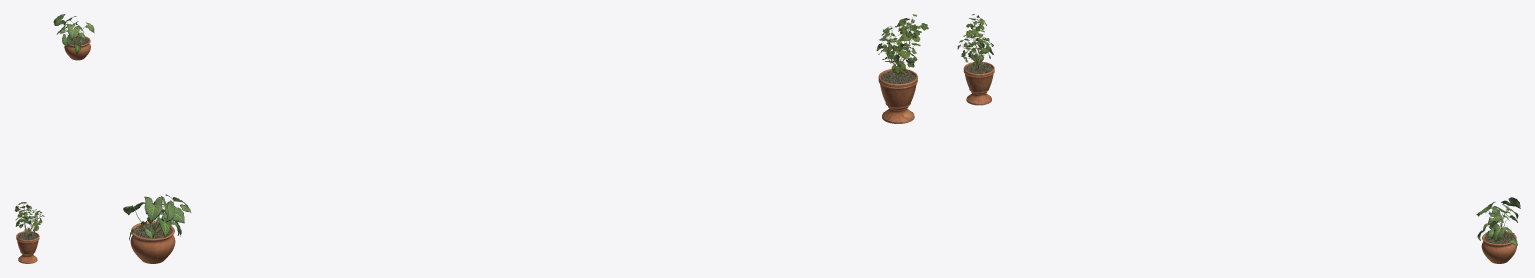
The model's file is room_ocean_props_m.glb.
3 views of the same model, side by side, from view 1: azimuth 30°, elevation 25°; view 2: azimuth 150°, elevation 25°; view 3: azimuth 270°, elevation 25° (orthographic). The views are drawn at different scales.
Parts seen in each view (by area): view 1: prop_potted_plant_02_2_potted_plant_02_leaves, prop_potted_plant_01_1_potted_plant_01_pot, prop_potted_plant_01_1_potted_plant_01_leaves, prop_potted_plant_02_2_potted_plant_02_pot, prop_potted_plant_01_1_potted_plant_01_pebbles, prop_potted_plant_02_2_potted_plant_02_dirt, prop_potted_plant_01_1_potted_plant_01_stem; view 2: prop_potted_plant_02_2_potted_plant_02_leaves, prop_potted_plant_01_1_potted_plant_01_leaves, prop_potted_plant_01_1_potted_plant_01_pot, prop_potted_plant_02_2_potted_plant_02_pot; view 3: prop_potted_plant_02_2_potted_plant_02_leaves, prop_potted_plant_01_1_potted_plant_01_leaves, prop_potted_plant_01_1_potted_plant_01_pot, prop_potted_plant_02_2_potted_plant_02_pot.
Part boxes in pixels (<box>): prop_potted_plant_02_2_potted_plant_02_leaves: <box>53,14,94,53</box>; prop_potted_plant_01_1_potted_plant_01_pot: <box>16,231,39,263</box>; prop_potted_plant_01_1_potted_plant_01_leaves: <box>14,202,44,236</box>; prop_potted_plant_02_2_potted_plant_02_pot: <box>64,35,90,60</box>; prop_potted_plant_01_1_potted_plant_01_pebbles: <box>17,232,38,240</box>; prop_potted_plant_02_2_potted_plant_02_dirt: <box>70,36,88,45</box>; prop_potted_plant_01_1_potted_plant_01_stem: <box>20,205,39,236</box>; prop_potted_plant_02_2_potted_plant_02_leaves: <box>123,194,191,240</box>; prop_potted_plant_01_1_potted_plant_01_leaves: <box>876,14,928,73</box>; prop_potted_plant_01_1_potted_plant_01_pot: <box>878,69,917,123</box>; prop_potted_plant_02_2_potted_plant_02_pot: <box>130,221,175,263</box>; prop_potted_plant_02_2_potted_plant_02_leaves: <box>1476,197,1520,245</box>; prop_potted_plant_01_1_potted_plant_01_leaves: <box>957,14,993,66</box>; prop_potted_plant_01_1_potted_plant_01_pot: <box>963,61,994,105</box>; prop_potted_plant_02_2_potted_plant_02_pot: <box>1481,231,1516,263</box>.
Bounding box in the file's own units: 5.73 × 1.22 × 7.57.
4 materials, 4 textured.
